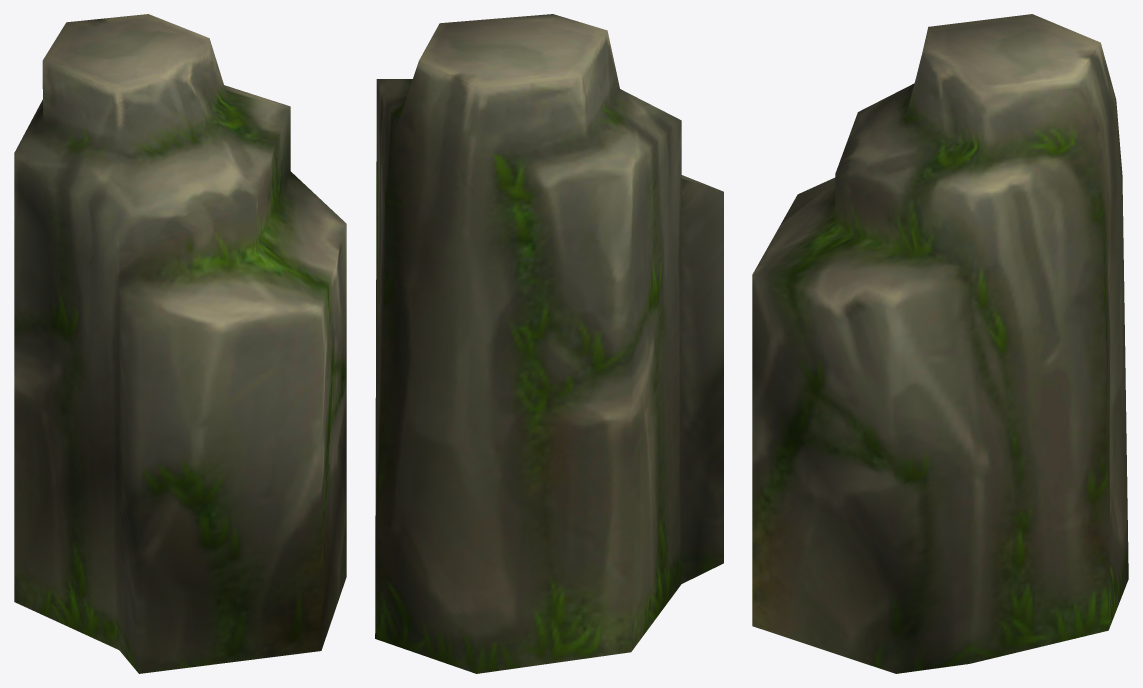
The model's file is RockFormation_4_5 (14).fbx.
The picture shows the model from 3 angles, left to right: view 1: azimuth 30°, elevation 25°; view 2: azimuth 150°, elevation 25°; view 3: azimuth 270°, elevation 25°; orthographic projection. The views are drawn at different scales.
Visible parts, largest first — view 1: RockFormation_4_5 (14); view 2: RockFormation_4_5 (14); view 3: RockFormation_4_5 (14).
Part boxes in pixels (x1=…): RockFormation_4_5 (14): x1=14, y1=14, x2=346, y2=673; RockFormation_4_5 (14): x1=375, y1=14, x2=723, y2=673; RockFormation_4_5 (14): x1=752, y1=14, x2=1128, y2=673.
Bounding box in the file's own units: 85.02 × 155 × 97.85.
1 material, 1 textured.
